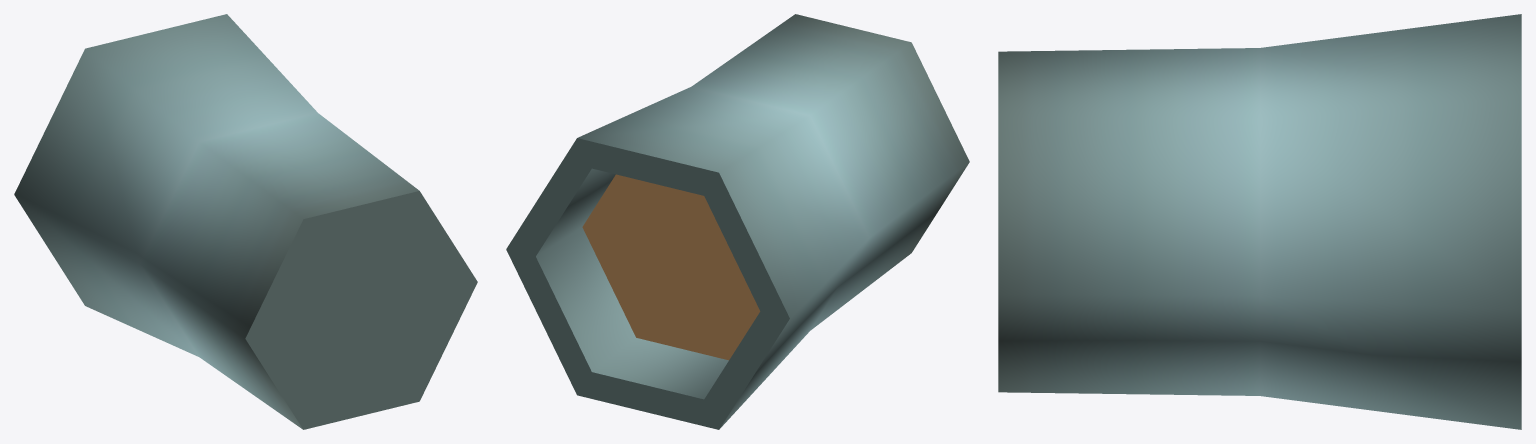
The model's file is Glass_B.fbx.
3 renders of one model, left to right at view 1: azimuth 30°, elevation 25°; view 2: azimuth 150°, elevation 25°; view 3: azimuth 270°, elevation 25°, orthographic. The views are drawn at different scales.
Parts seen in each view (by area): view 1: Glass_ B; view 2: Glass_ B; view 3: Glass_ B.
Part boxes in pixels (x1,y1,x2,y2): Glass_ B: (14, 14, 477, 429); Glass_ B: (506, 14, 969, 429); Glass_ B: (998, 14, 1521, 429).
Size of the model in its own units: 0.2468 by 0.2138 by 0.3095.
